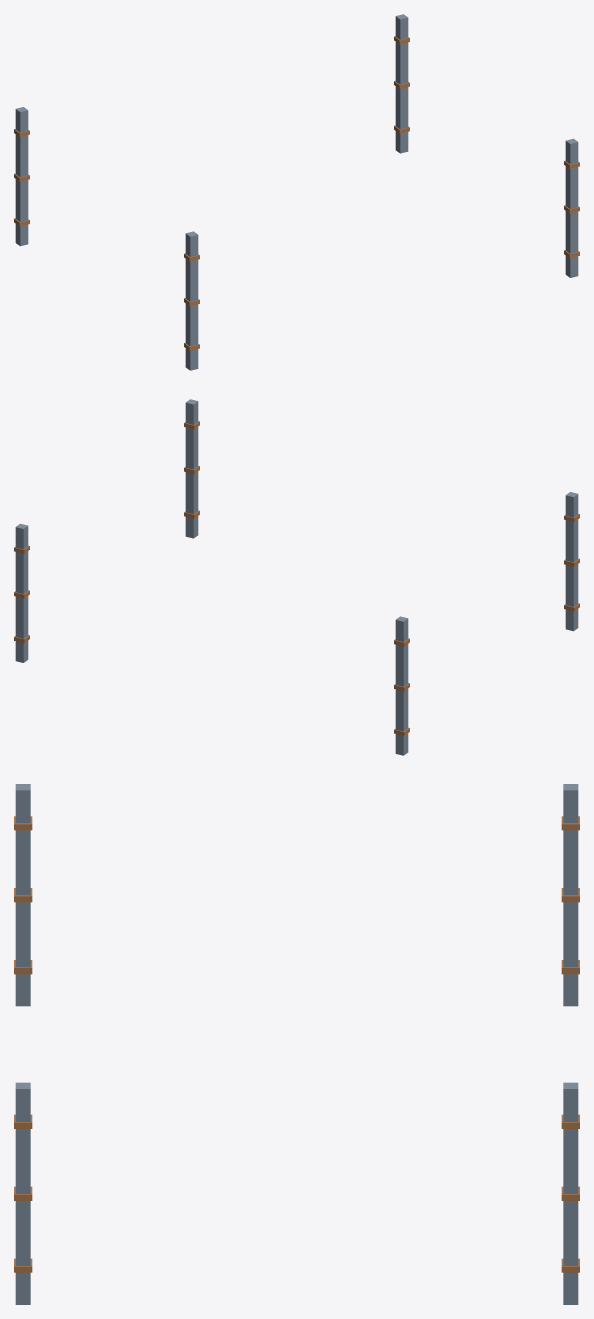
The model's file is 11_PS_Studio_CornerStructuralSupports.fbx.
3 renders of one model, top to bottom at view 1: azimuth 30°, elevation 25°; view 2: azimuth 150°, elevation 25°; view 3: azimuth 270°, elevation 25°, orthographic. The views are drawn at different scales.
Parts seen in each view (by area): view 1: PS_Studio_CornerStructuralSupports; view 2: PS_Studio_CornerStructuralSupports; view 3: PS_Studio_CornerStructuralSupports.
Boxes of the visible parts, x1,y1,x2,y2 form: PS_Studio_CornerStructuralSupports: (14,14,579,370); PS_Studio_CornerStructuralSupports: (14,399,579,755); PS_Studio_CornerStructuralSupports: (14,784,579,1304).
Size of the model in its own units: 1828 by 600 by 1426.
